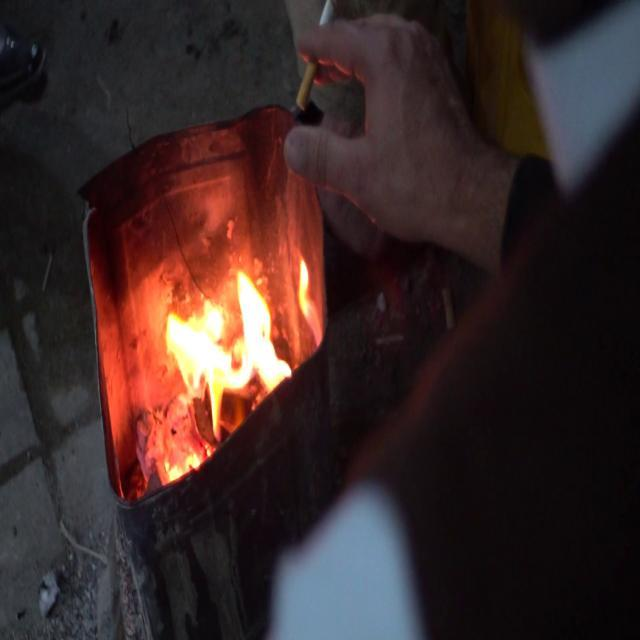Fire: (157, 258, 286, 438)
